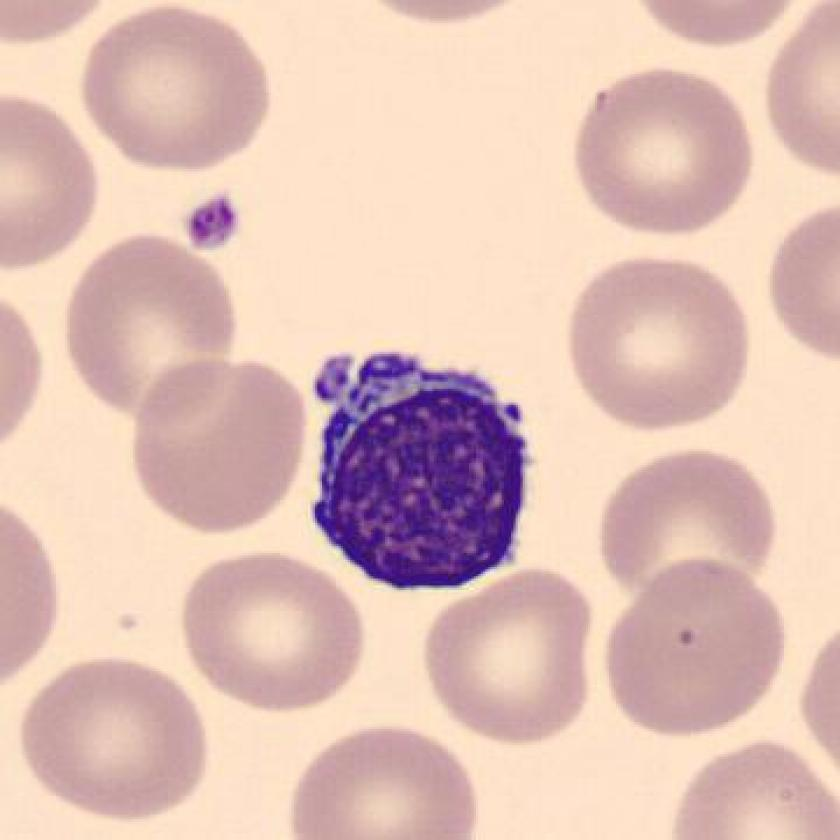lymphocyte: (286, 325, 552, 607)
platelets: (179, 185, 245, 257)
